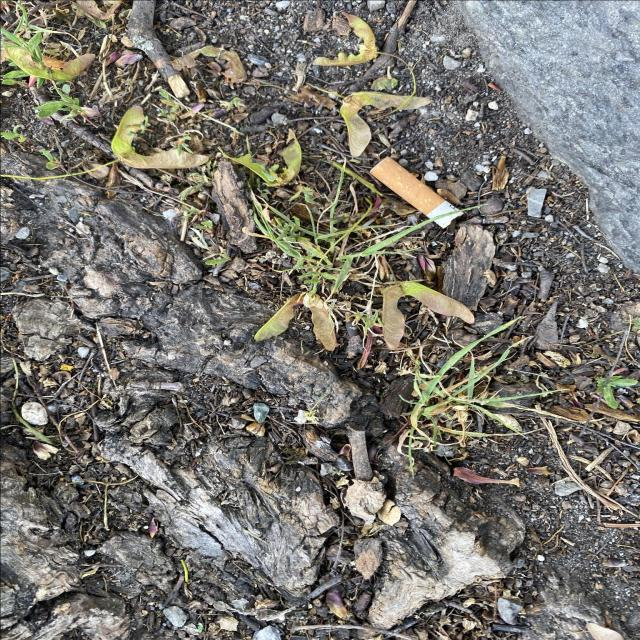other waste: (368, 156, 467, 230)
